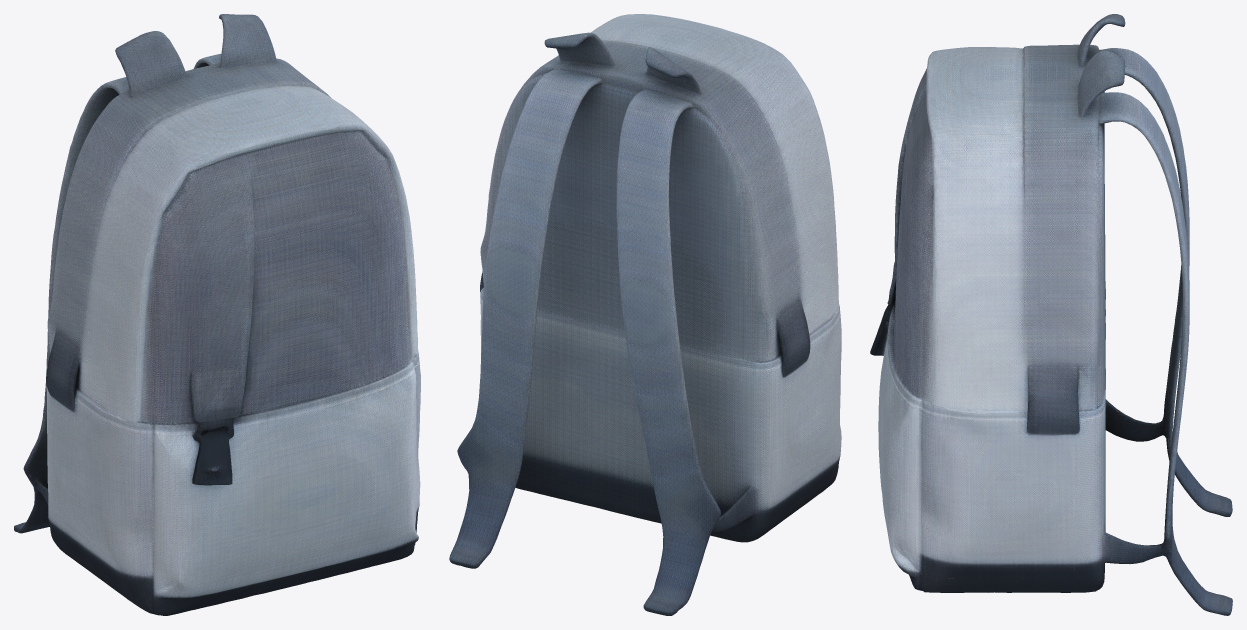
File: backpack.glb
3 views of the same model, side by side, from view 1: azimuth 30°, elevation 25°; view 2: azimuth 150°, elevation 25°; view 3: azimuth 270°, elevation 25° (orthographic). The views are drawn at different scales.
Visible parts, largest first — view 1: Mesh; view 2: Mesh; view 3: Mesh.
Part boxes in pixels (left/top/right/bottom): Mesh: left=14, top=14, right=420, bottom=615; Mesh: left=449, top=14, right=841, bottom=615; Mesh: left=870, top=14, right=1232, bottom=615.
Bounding box in the file's own units: 1.22 × 1.91 × 1.19.
Materials: 1 (1 with a texture image).
